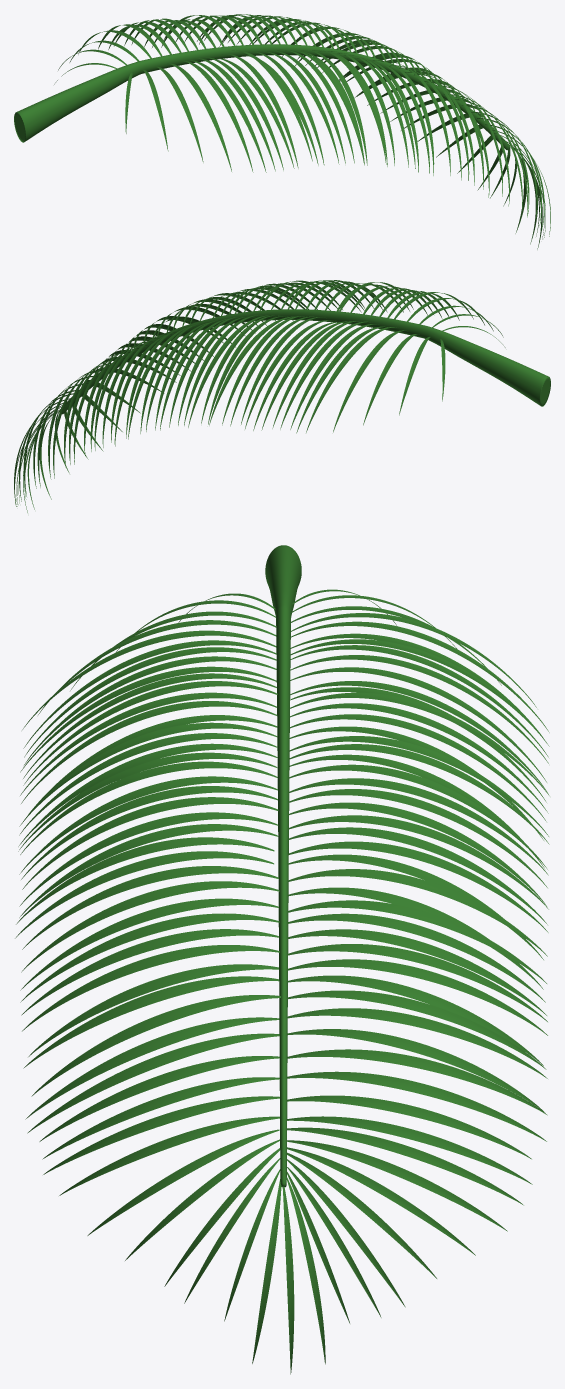
Rendered from palm.glb.
3 views of the same model, one above another, from view 1: azimuth 30°, elevation 25°; view 2: azimuth 150°, elevation 25°; view 3: azimuth 270°, elevation 25° (orthographic). The views are drawn at different scales.
Visible parts, largest first — view 1: FRUNZA 1; view 2: FRUNZA 1; view 3: FRUNZA 1.
Boxes of the visible parts, x1,y1,x2,y2 form: FRUNZA 1: (14,14,550,249); FRUNZA 1: (14,280,550,512); FRUNZA 1: (15,545,549,1374).
Size of the model in its own units: 3.05 by 1.59 by 1.67.
